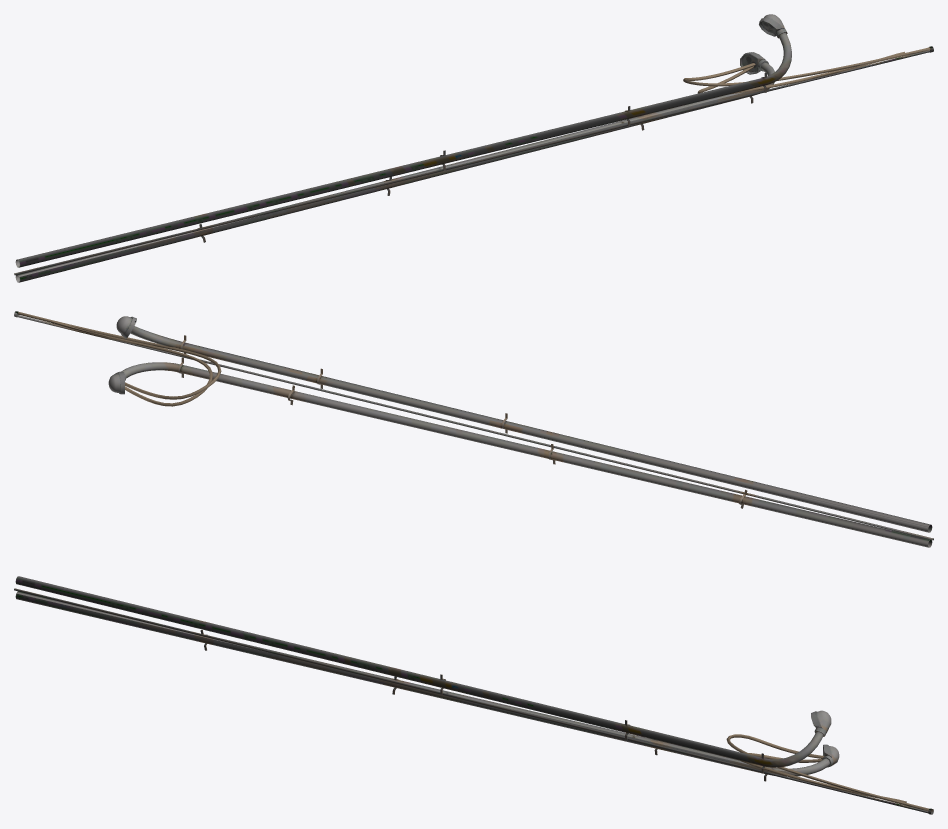
The model's file is props_mining_conduit_outdoor512.glb.
3 renders of one model, top to bottom at view 1: azimuth 30°, elevation 25°; view 2: azimuth 150°, elevation 25°; view 3: azimuth 330°, elevation 25°, orthographic.
Visible parts, largest first — view 1: models/props_mining/conduit_outdoor512; view 2: models/props_mining/conduit_outdoor512; view 3: models/props_mining/conduit_outdoor512.
Boxes of the visible parts, x1,y1,x2,y2 form: models/props_mining/conduit_outdoor512: (14, 14, 933, 282); models/props_mining/conduit_outdoor512: (14, 311, 933, 547); models/props_mining/conduit_outdoor512: (14, 576, 933, 814).
Bounding box in the file's own units: 486 × 35.01 × 41.94.
1 material, 1 textured.
